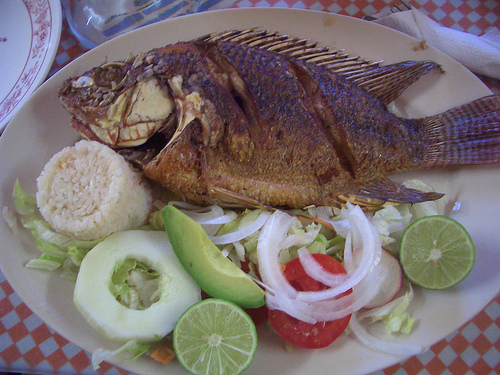fish: (55, 27, 499, 210)
